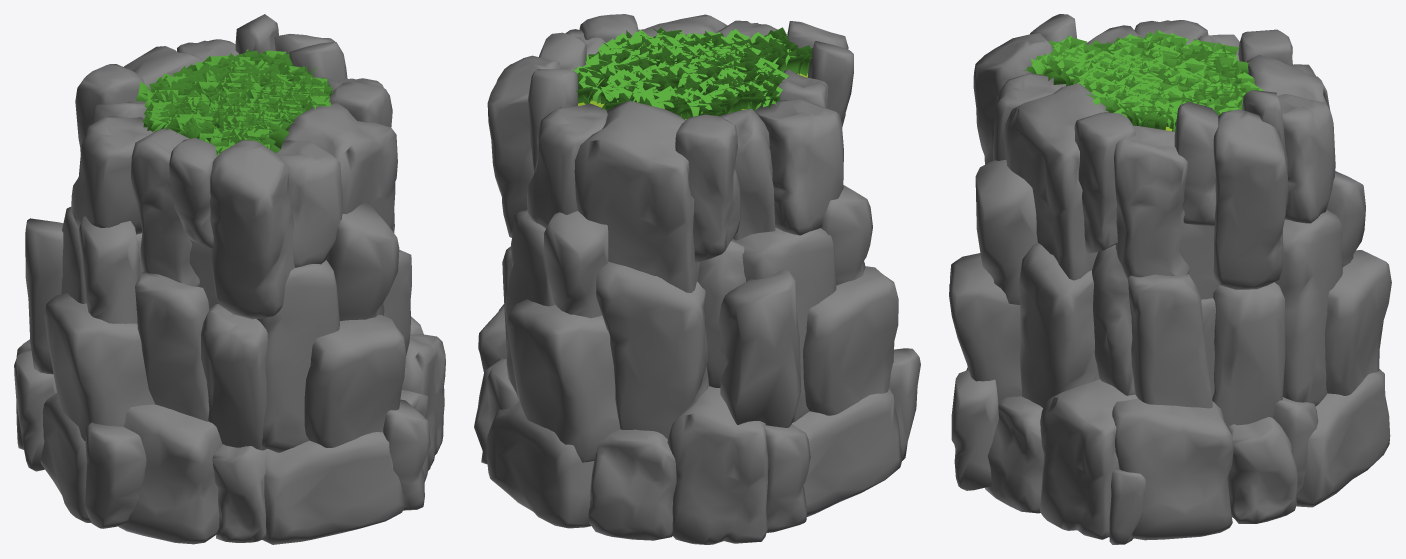
File: SM_cliff_nature_01.fbx
3 renders of one model, left to right at view 1: azimuth 30°, elevation 25°; view 2: azimuth 150°, elevation 25°; view 3: azimuth 270°, elevation 25°, orthographic. The views are drawn at different scales.
Size of the model in its own units: 443 by 456 by 452.
